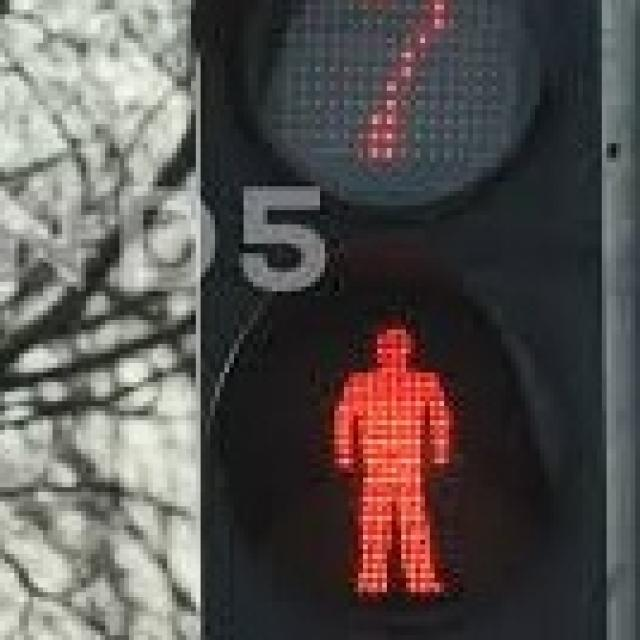red_light: (301, 296, 482, 607)
